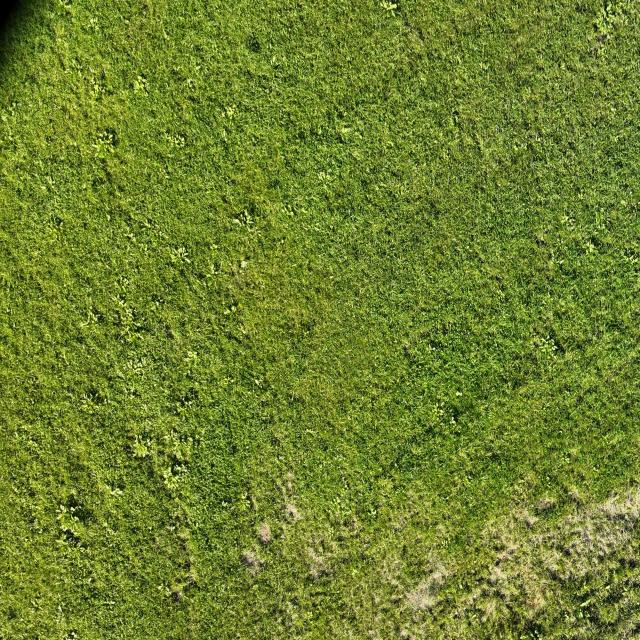rumex: (511, 178, 638, 360), (397, 356, 490, 502), (218, 206, 262, 287), (312, 166, 351, 217), (108, 288, 141, 335), (425, 389, 456, 438), (166, 428, 196, 465), (40, 198, 66, 238), (231, 206, 258, 243), (533, 331, 559, 368), (91, 128, 115, 158), (168, 527, 192, 556), (126, 358, 150, 384), (132, 438, 155, 460), (79, 391, 100, 414), (89, 78, 108, 102), (427, 566, 448, 587), (281, 471, 297, 498), (207, 316, 224, 341), (162, 470, 181, 492), (378, 1, 400, 20), (595, 10, 611, 36), (244, 489, 258, 517), (169, 246, 188, 265), (621, 244, 640, 263), (583, 240, 599, 262), (57, 1, 74, 20), (172, 462, 189, 480), (78, 315, 97, 331), (57, 511, 73, 530), (183, 350, 200, 367), (566, 488, 582, 506), (247, 36, 262, 54), (175, 401, 191, 417), (156, 582, 172, 598), (348, 516, 362, 534), (223, 103, 236, 121), (533, 234, 548, 249), (432, 403, 446, 419), (578, 596, 594, 610), (350, 148, 365, 162), (576, 582, 590, 597), (339, 126, 352, 142), (65, 492, 77, 507), (55, 536, 68, 549), (549, 339, 561, 353), (4, 128, 15, 143), (284, 205, 296, 218), (560, 213, 572, 226), (110, 486, 123, 498), (367, 506, 378, 520), (140, 80, 150, 95), (241, 208, 251, 223), (202, 269, 215, 280), (316, 171, 329, 182), (269, 55, 279, 69), (45, 223, 56, 235), (115, 297, 126, 309), (567, 484, 580, 494), (58, 58, 67, 72), (543, 334, 553, 346), (386, 2, 398, 12), (530, 628, 540, 640), (220, 128, 228, 142), (603, 583, 613, 594), (138, 71, 147, 83), (177, 135, 186, 147), (254, 377, 263, 389), (596, 222, 606, 232), (141, 221, 152, 230), (185, 77, 194, 88), (45, 176, 54, 187), (89, 17, 98, 28), (480, 62, 489, 72), (29, 598, 38, 608), (208, 264, 216, 275), (558, 61, 566, 72), (605, 3, 613, 14), (72, 514, 80, 525), (58, 504, 67, 513), (223, 306, 231, 316), (154, 300, 162, 310), (162, 434, 170, 444), (70, 629, 78, 639), (428, 345, 436, 354), (232, 218, 241, 226), (156, 583, 164, 592), (455, 390, 463, 398), (69, 505, 77, 513), (342, 125, 351, 132), (231, 304, 237, 314), (578, 608, 584, 618), (210, 243, 218, 250), (1, 114, 8, 122), (102, 520, 108, 529), (57, 603, 63, 612), (109, 599, 116, 606), (12, 102, 18, 110), (106, 212, 110, 222), (40, 185, 46, 191), (148, 527, 153, 533)
